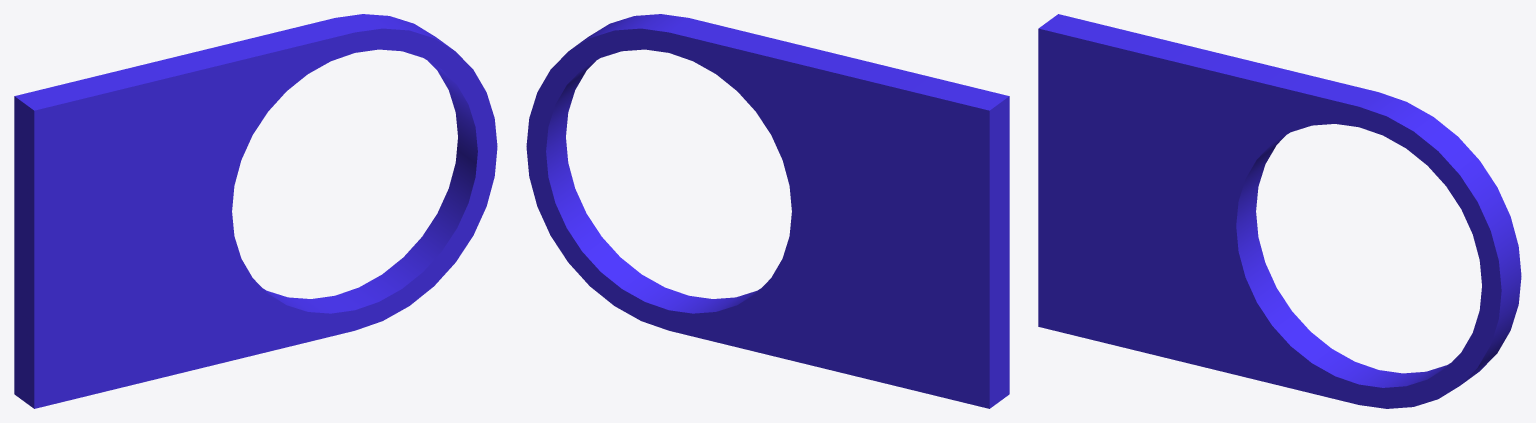
The model's file is environmentitemacceptor.glb.
3 views of the same model, side by side, from view 1: azimuth 30°, elevation 25°; view 2: azimuth 150°, elevation 25°; view 3: azimuth 330°, elevation 25° (orthographic).
Visible parts, largest first — view 1: EnvironmentHolder; view 2: EnvironmentHolder; view 3: EnvironmentHolder.
Part boxes in pixels (x1,y1,x2,y2): EnvironmentHolder: (14, 14, 497, 408); EnvironmentHolder: (526, 14, 1009, 408); EnvironmentHolder: (1038, 14, 1521, 408).
Bounding box in the file's own units: 0.1346 × 0.0828 × 0.01.
